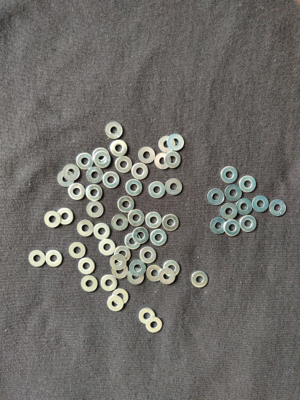circle: (110, 140, 128, 157), (99, 239, 116, 257), (86, 167, 104, 184), (29, 250, 46, 268), (168, 134, 185, 151), (159, 136, 176, 153), (155, 153, 172, 170), (221, 167, 238, 184), (240, 176, 257, 193), (139, 147, 156, 164), (270, 200, 287, 217), (253, 196, 270, 213), (225, 185, 242, 202), (208, 189, 225, 206), (166, 179, 183, 196), (149, 182, 166, 199), (132, 163, 149, 180), (126, 180, 143, 197), (146, 212, 163, 229), (150, 230, 167, 247), (192, 271, 209, 288), (106, 122, 123, 139), (103, 172, 120, 189), (140, 247, 157, 264), (110, 254, 127, 271), (114, 246, 131, 263), (125, 233, 142, 250), (94, 223, 111, 240), (77, 220, 94, 237), (57, 208, 74, 225), (44, 211, 61, 228), (87, 201, 104, 218), (69, 184, 86, 201), (63, 164, 80, 181), (94, 151, 111, 168), (93, 148, 110, 165), (77, 153, 94, 170), (101, 275, 118, 292), (81, 276, 98, 293), (69, 243, 86, 260), (165, 151, 181, 169), (147, 265, 163, 283), (46, 250, 62, 268), (236, 199, 253, 215), (221, 204, 238, 220), (240, 216, 257, 232), (225, 220, 241, 237), (211, 218, 227, 235), (118, 197, 135, 213), (128, 210, 145, 226), (163, 215, 180, 231), (164, 261, 181, 277), (159, 268, 175, 285), (116, 157, 133, 173), (130, 260, 146, 277), (112, 289, 129, 305), (86, 185, 103, 201), (58, 171, 74, 188), (79, 258, 95, 275), (139, 309, 156, 325), (146, 317, 163, 333), (133, 227, 149, 244), (112, 215, 128, 231), (128, 269, 144, 285), (108, 296, 124, 312), (112, 263, 128, 279)
